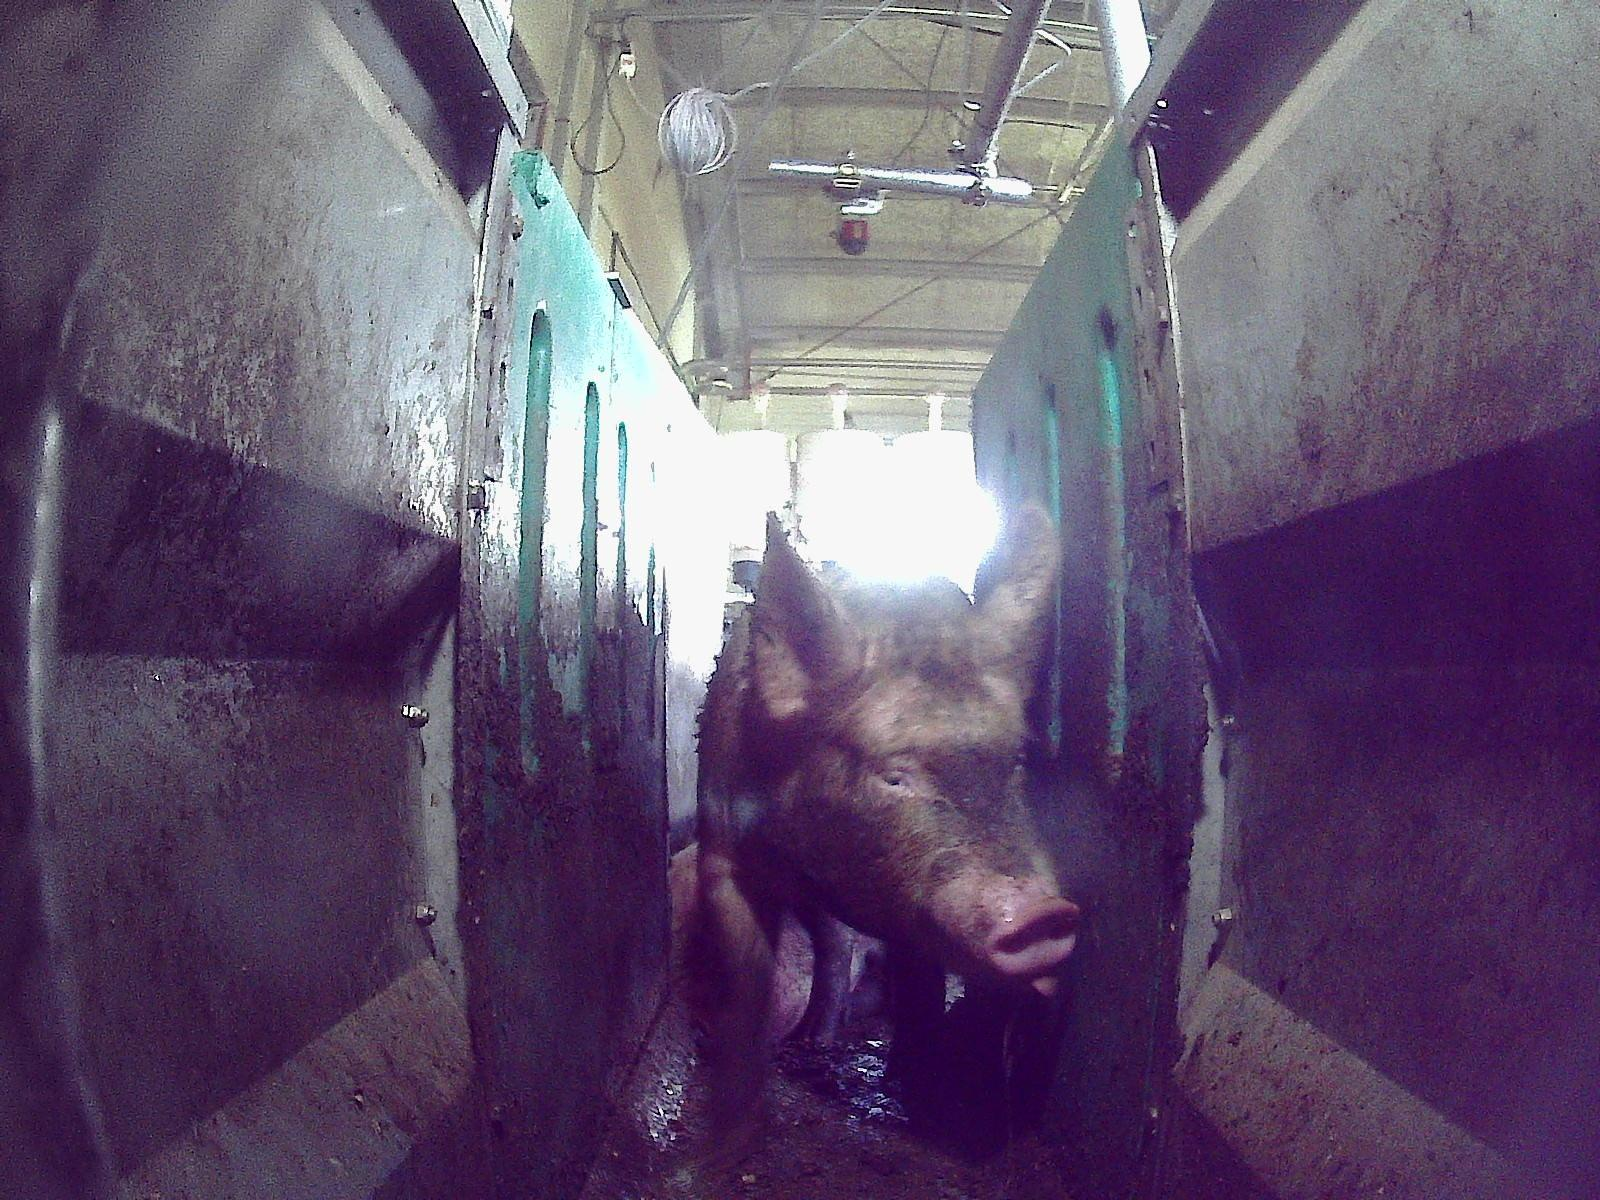Face: (800, 606, 1081, 1002)
